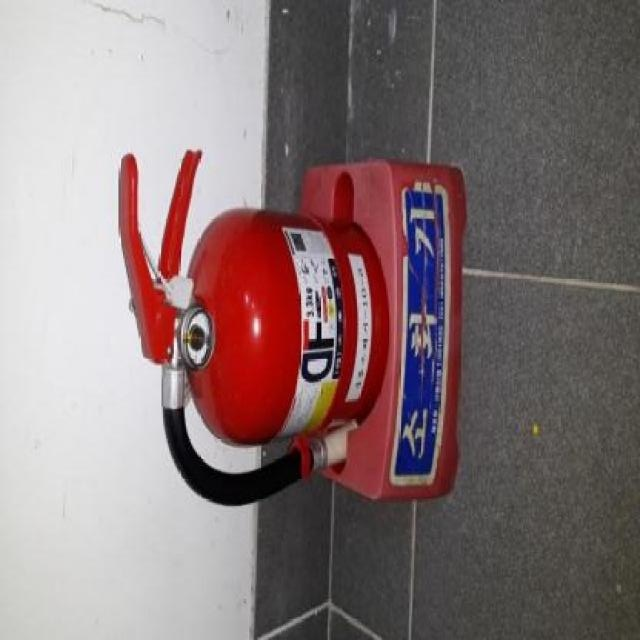fire extinguisher: (118, 148, 390, 508)
